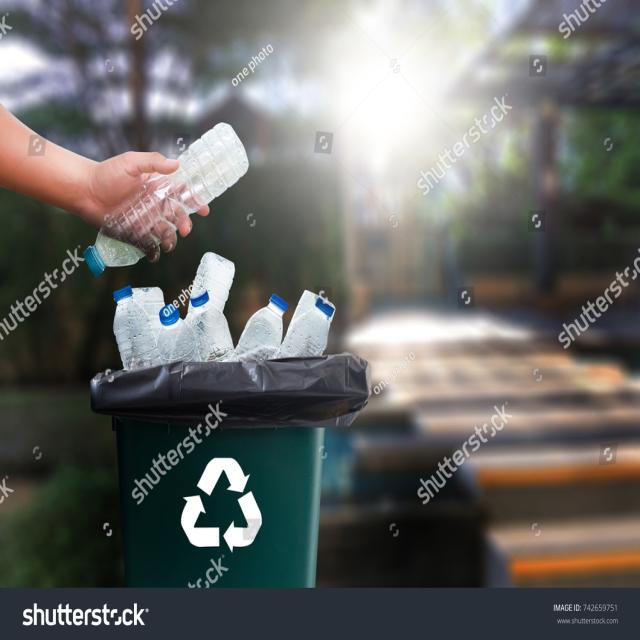plastic: (108, 283, 334, 356)
